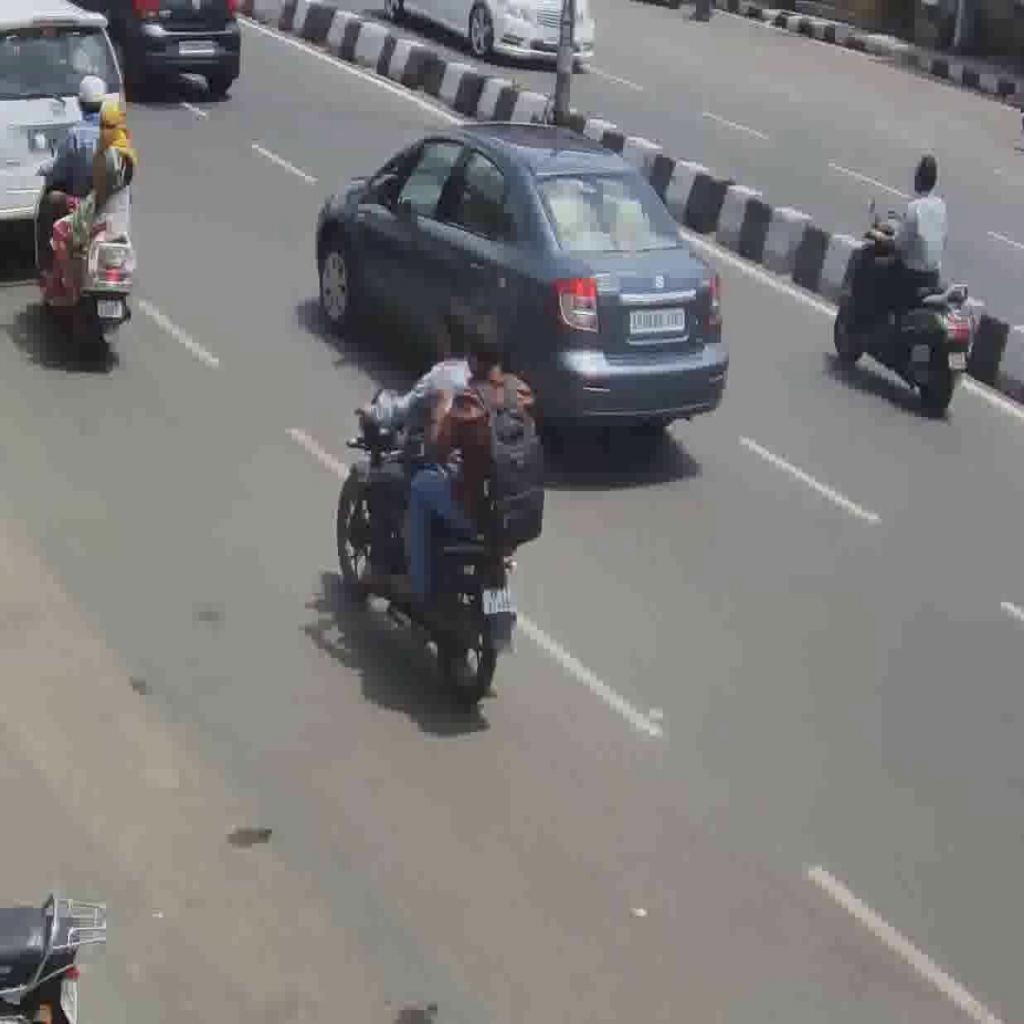helmet: (335, 380, 522, 706), (832, 207, 976, 416), (32, 139, 136, 364)
